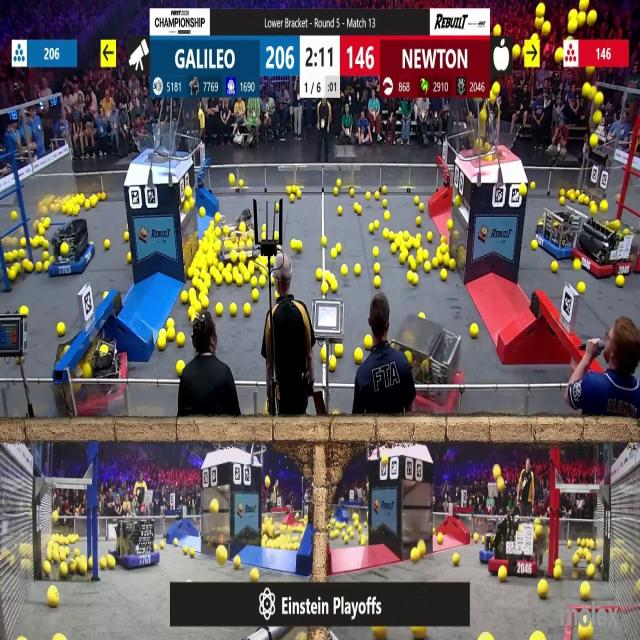ball_airborne: (374, 626, 386, 640), (568, 21, 577, 35), (588, 10, 596, 25), (584, 84, 592, 98), (590, 134, 598, 148), (541, 22, 549, 36), (594, 110, 602, 124), (493, 464, 501, 478), (556, 50, 564, 64), (211, 499, 219, 513), (492, 84, 500, 97), (484, 141, 492, 154), (595, 93, 603, 105), (536, 4, 544, 16), (534, 16, 542, 28), (514, 44, 522, 56), (578, 10, 585, 23), (600, 201, 608, 212), (493, 26, 501, 37), (184, 186, 192, 197), (497, 480, 504, 492), (587, 66, 595, 76), (54, 509, 60, 522), (591, 204, 598, 215), (474, 138, 481, 148), (481, 110, 487, 120), (266, 478, 272, 488), (532, 34, 538, 43)
ball_ground: (47, 587, 58, 608), (537, 582, 547, 600), (216, 548, 226, 564), (582, 584, 591, 600), (498, 567, 507, 581), (469, 323, 477, 338), (176, 360, 184, 375), (588, 564, 596, 578), (320, 348, 328, 362), (364, 337, 372, 351), (61, 563, 69, 577), (177, 334, 185, 347), (58, 322, 66, 335), (354, 349, 362, 362), (250, 568, 258, 581), (336, 344, 344, 357), (328, 357, 336, 370), (412, 550, 420, 563), (374, 276, 382, 288), (159, 339, 167, 351), (180, 290, 188, 302), (26, 262, 34, 274), (452, 554, 460, 566), (248, 263, 255, 276), (325, 271, 334, 281), (618, 276, 626, 287), (236, 276, 244, 287), (8, 270, 16, 281), (572, 261, 580, 272), (100, 558, 108, 569), (167, 328, 175, 339), (520, 184, 528, 195), (239, 251, 247, 262), (235, 556, 242, 568), (231, 305, 238, 317), (555, 567, 562, 579), (244, 305, 251, 317), (329, 281, 336, 293), (258, 276, 265, 288), (342, 266, 349, 278), (108, 557, 115, 569), (480, 633, 492, 640), (232, 252, 239, 264), (398, 253, 406, 263), (290, 240, 298, 250), (44, 561, 50, 574), (442, 270, 449, 281), (577, 282, 584, 293), (251, 277, 258, 288), (532, 633, 543, 640), (187, 309, 194, 320), (252, 289, 258, 301), (322, 282, 328, 294), (216, 305, 222, 317), (203, 296, 209, 308), (419, 544, 425, 556), (586, 552, 592, 564), (354, 266, 361, 276), (316, 270, 323, 280), (424, 263, 431, 273), (187, 269, 194, 279), (383, 230, 390, 240), (390, 244, 397, 254), (22, 307, 29, 317), (411, 262, 418, 272), (215, 276, 222, 286), (355, 205, 362, 215), (225, 276, 232, 286), (227, 174, 234, 184), (360, 535, 367, 545), (417, 252, 424, 262), (270, 255, 277, 265), (375, 265, 381, 276), (408, 272, 414, 283), (188, 288, 196, 296), (435, 534, 442, 543), (190, 279, 197, 288), (442, 244, 449, 253), (210, 267, 217, 276), (552, 263, 558, 273), (43, 263, 49, 273), (321, 237, 327, 247), (531, 240, 537, 250), (330, 248, 336, 258), (413, 276, 419, 286), (371, 247, 377, 257), (450, 261, 456, 271), (36, 264, 42, 274), (432, 257, 438, 267), (189, 549, 195, 559), (572, 556, 578, 566), (92, 198, 98, 208), (214, 213, 220, 223), (73, 206, 79, 216), (390, 232, 396, 242), (197, 301, 203, 311), (225, 264, 232, 272), (435, 248, 442, 256), (530, 181, 536, 190), (416, 216, 422, 225), (42, 251, 48, 260), (472, 533, 478, 542), (19, 239, 25, 248), (410, 255, 416, 264), (18, 249, 24, 258), (344, 535, 350, 544), (407, 240, 413, 249), (569, 191, 575, 200), (105, 240, 110, 250), (128, 252, 133, 262), (448, 219, 453, 229), (423, 250, 428, 260), (89, 558, 94, 568), (276, 203, 281, 213), (419, 312, 425, 320), (168, 319, 174, 327), (56, 634, 64, 640), (200, 208, 206, 216), (419, 204, 425, 212), (403, 232, 409, 240), (375, 220, 381, 228), (203, 287, 209, 295), (42, 241, 48, 249), (384, 212, 390, 220), (415, 240, 421, 248), (270, 278, 276, 286), (74, 549, 80, 557), (350, 188, 356, 196), (365, 191, 371, 199), (84, 202, 90, 210), (161, 328, 167, 336), (33, 240, 39, 248), (153, 542, 159, 550), (263, 223, 269, 231), (123, 233, 128, 242), (445, 255, 450, 264), (218, 264, 223, 273), (215, 227, 220, 236), (416, 233, 422, 240), (556, 559, 562, 566), (442, 237, 448, 244), (239, 180, 245, 187), (174, 538, 180, 545), (415, 195, 421, 202), (331, 188, 337, 195), (427, 234, 432, 242), (368, 222, 372, 232), (560, 198, 565, 206), (376, 191, 381, 199), (289, 193, 294, 201), (275, 233, 280, 241), (567, 539, 572, 547), (338, 244, 342, 253), (560, 188, 565, 195), (383, 201, 388, 208), (383, 186, 388, 193), (39, 227, 44, 234), (339, 207, 343, 215), (16, 356, 20, 364), (162, 540, 166, 548), (100, 194, 104, 202), (296, 190, 300, 198), (183, 545, 187, 553), (275, 291, 279, 298), (18, 636, 24, 640)
goal: (466, 120, 519, 160), (131, 130, 189, 160)
robot_blue: (48, 222, 95, 278), (537, 206, 582, 260), (114, 518, 158, 568), (221, 212, 261, 265)
robot_red: (412, 322, 462, 412), (68, 342, 125, 416), (576, 218, 637, 279), (492, 520, 549, 578)
